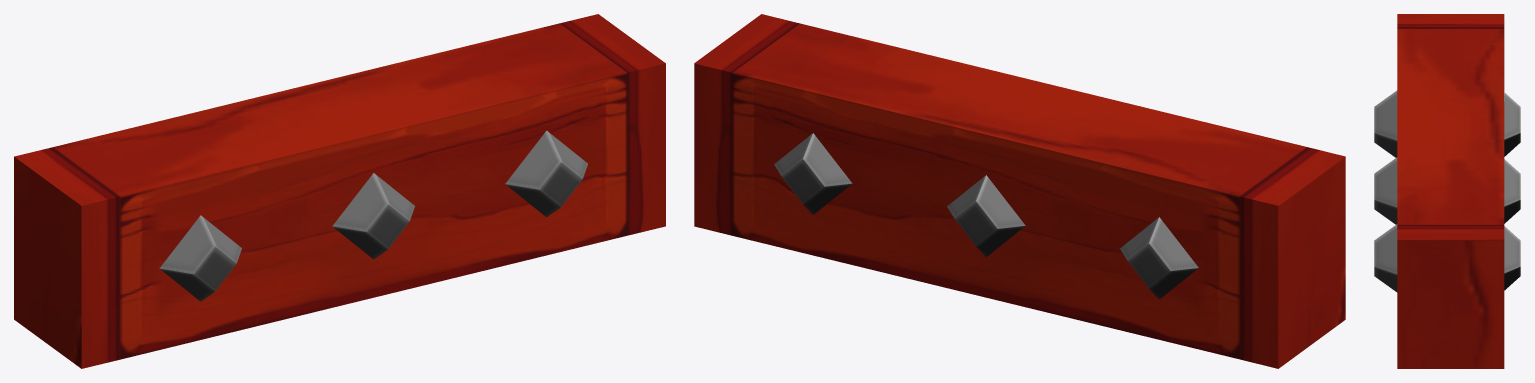
File: fence_rad_02.fbx
The picture shows the model from 3 angles, left to right: view 1: azimuth 30°, elevation 25°; view 2: azimuth 150°, elevation 25°; view 3: azimuth 270°, elevation 25°; orthographic projection. The views are drawn at different scales.
Parts seen in each view (by area): view 1: fence_rad_02; view 2: fence_rad_02; view 3: fence_rad_02.
Boxes of the visible parts, <box> form: fence_rad_02: <box>14,14,665,368</box>; fence_rad_02: <box>694,14,1345,368</box>; fence_rad_02: <box>1374,14,1520,368</box>.
Size of the model in its own units: 150 by 40 by 41.03.
